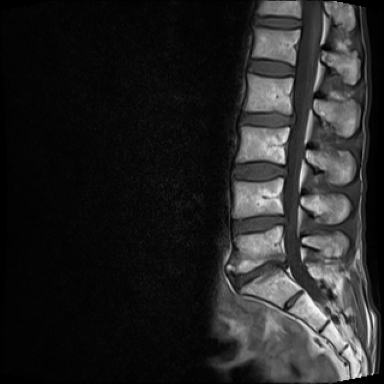Lumbar Disc Bulge (LDB): (221, 245, 292, 293), (223, 204, 296, 238), (233, 99, 299, 133)
Normal IVD: (222, 159, 287, 186), (239, 53, 296, 80), (245, 12, 301, 32)
Spinal Stenosis (SS): (272, 103, 302, 136), (270, 205, 296, 240)
Spondylolisthesis: (215, 250, 301, 297)
